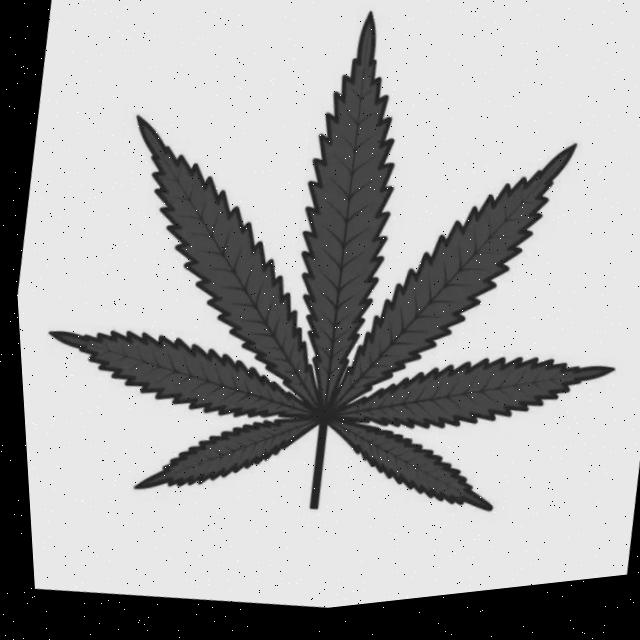cannabis: (48, 14, 614, 513)
